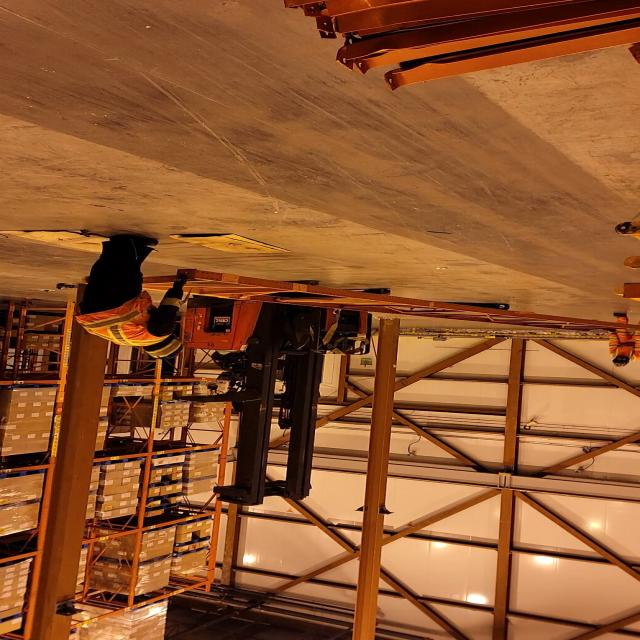forklift: (182, 272, 394, 498)
human: (64, 231, 207, 360), (204, 340, 290, 386), (601, 310, 640, 368)
objectofinterest: (75, 265, 640, 339), (0, 227, 158, 256), (160, 229, 294, 256)
